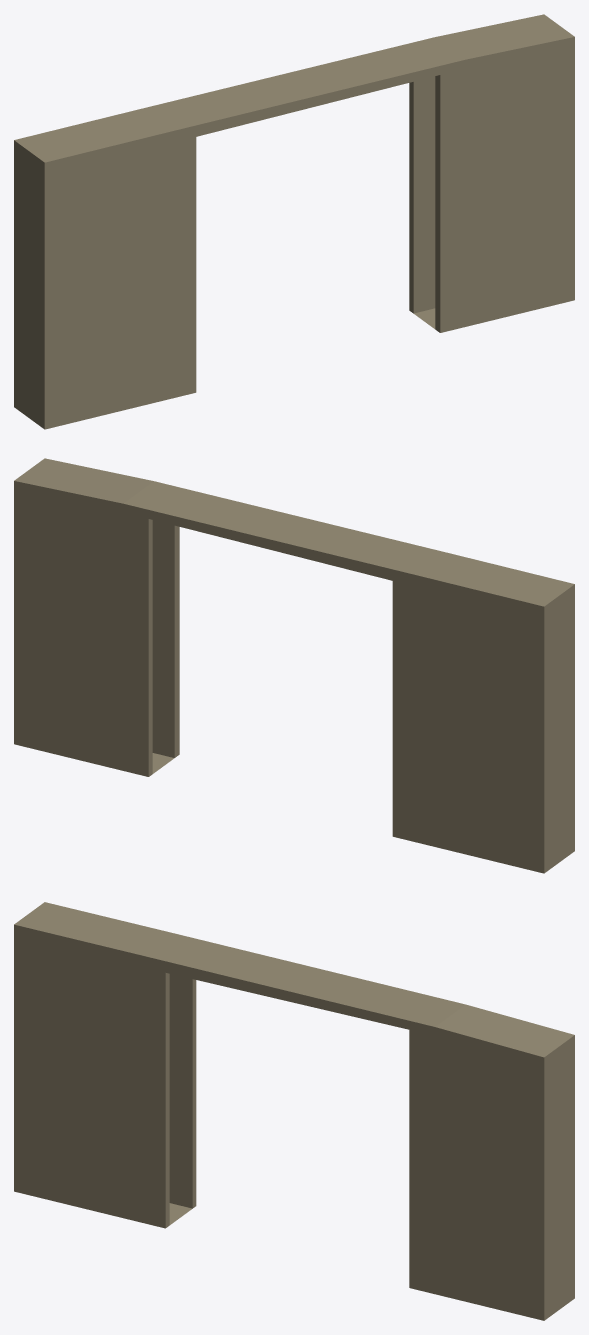
The model's file is DoorFrame.glb.
3 views of the same model, one above another, from view 1: azimuth 30°, elevation 25°; view 2: azimuth 150°, elevation 25°; view 3: azimuth 330°, elevation 25° (orthographic).
Parts seen in each view (by area): view 1: Frame.009; view 2: Frame.009; view 3: Frame.009.
Part boxes in pixels (x1=…): Frame.009: x1=14, y1=14, x2=574, y2=429; Frame.009: x1=14, y1=458, x2=574, y2=873; Frame.009: x1=14, y1=902, x2=574, y2=1320.
Bounding box in the file's own units: 4.33 × 2.08 × 0.4351.
